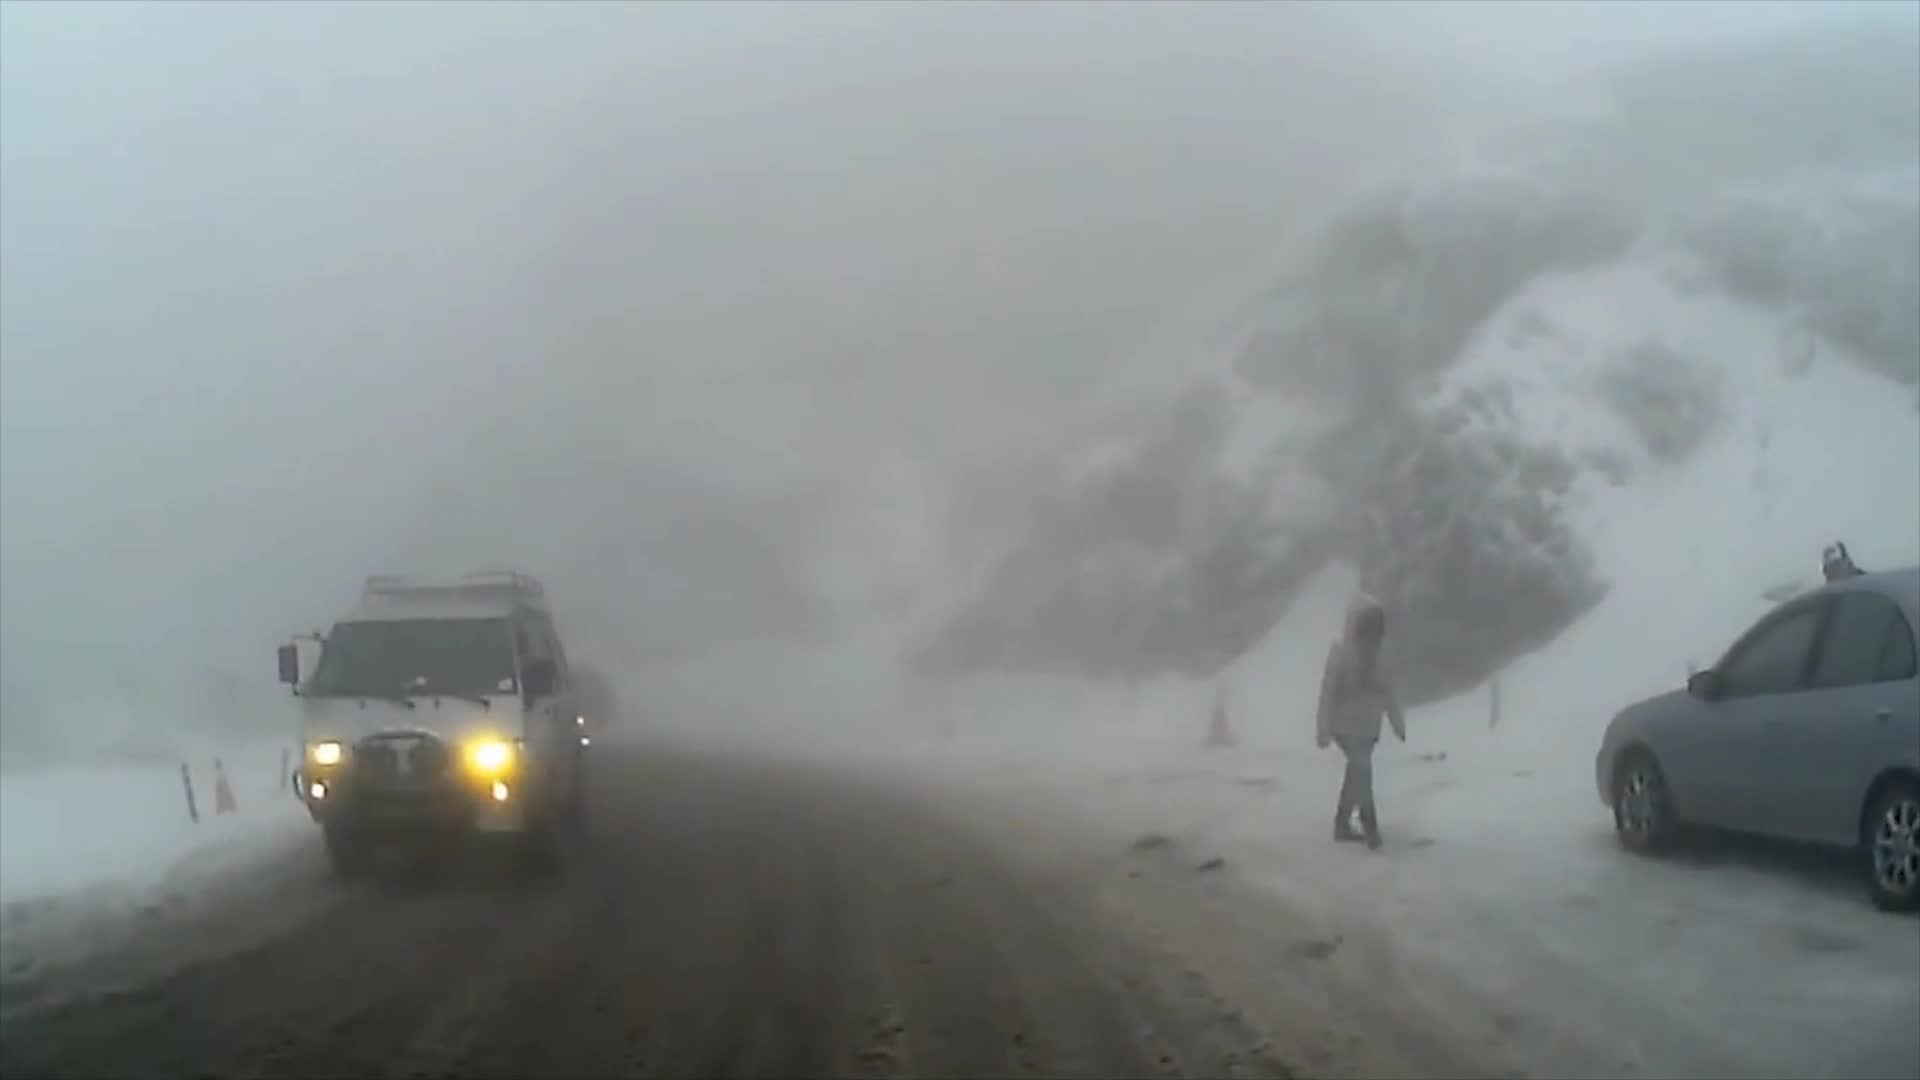pedestrian: (1317, 581, 1409, 853)
vehicle: (1592, 569, 1920, 916), (263, 563, 585, 884)
